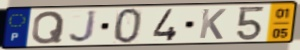0: (112, 7, 144, 45)
4: (152, 8, 179, 42)
5: (235, 5, 266, 41)
J: (67, 9, 99, 44)
K: (198, 8, 228, 41)
Q: (30, 10, 67, 46)
